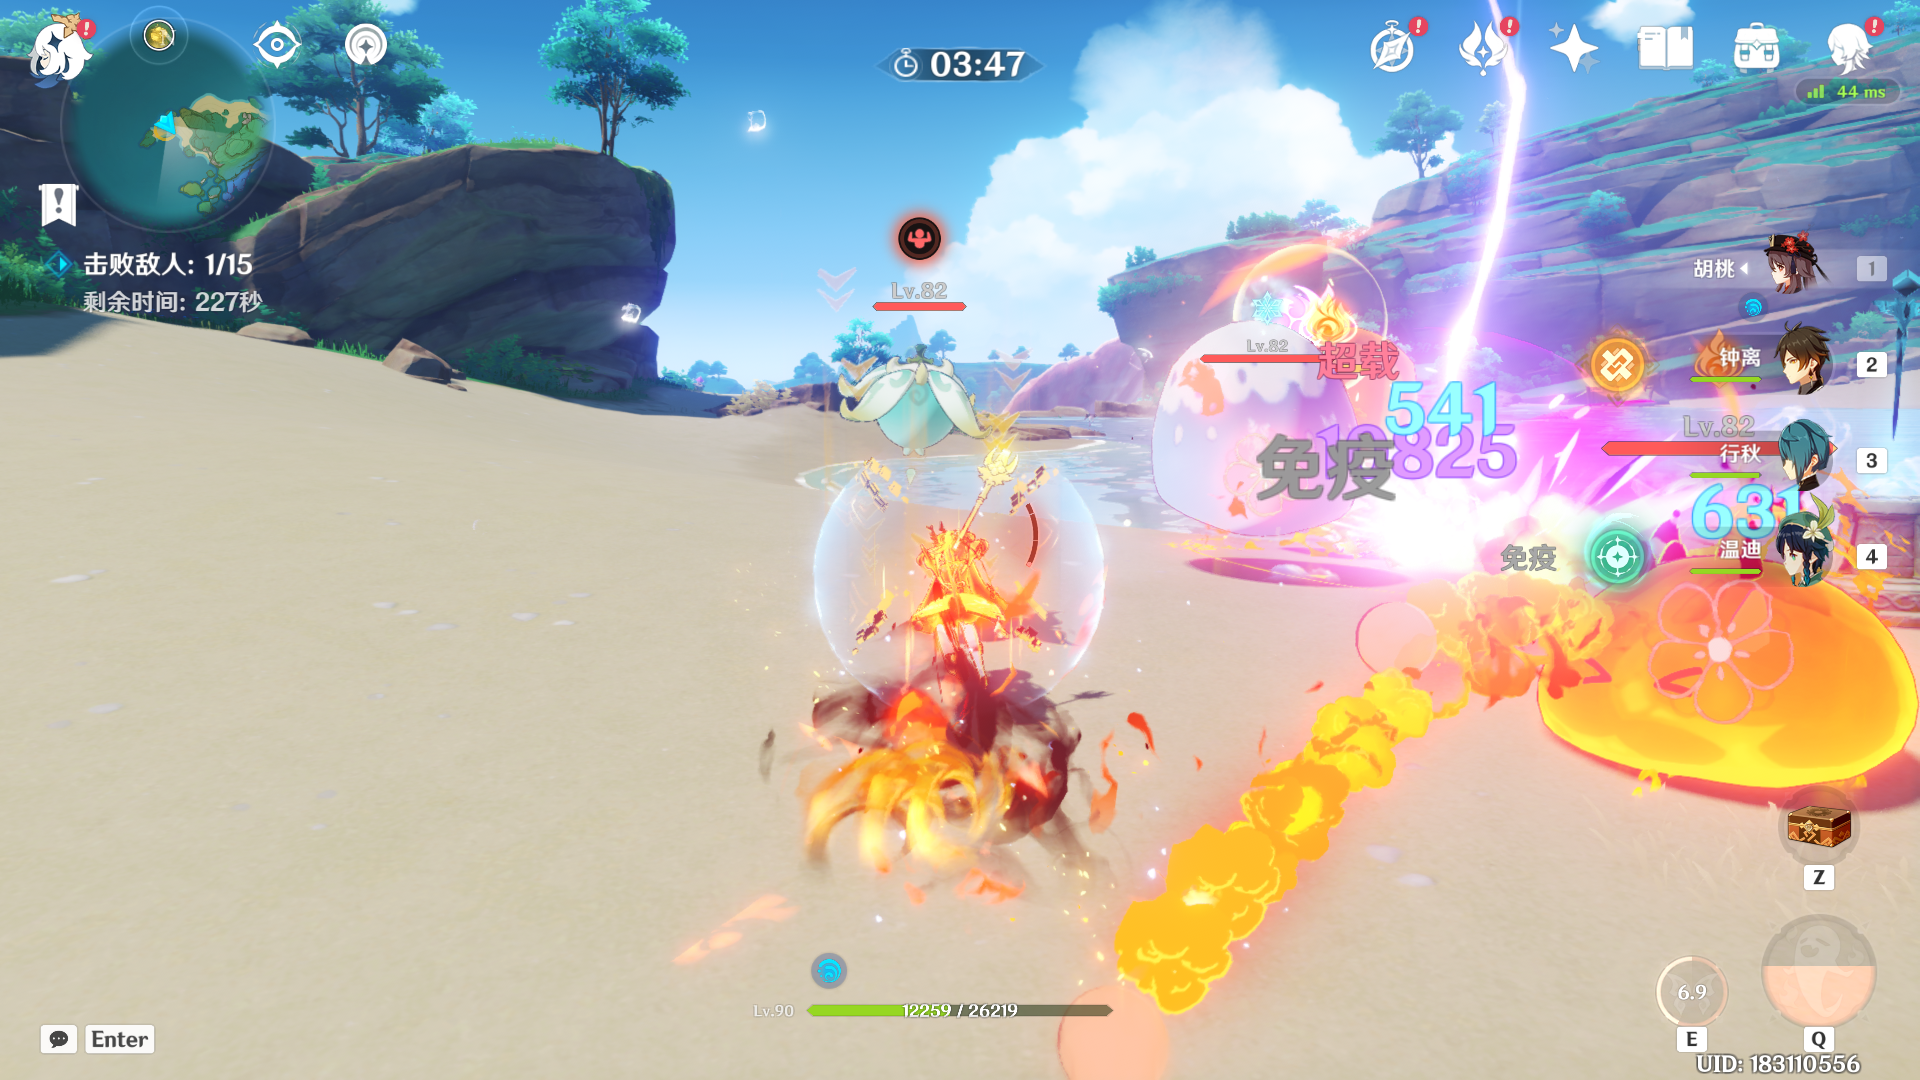character: (804, 488, 1150, 778)
slime: (1538, 546, 1920, 833), (1127, 306, 1414, 553)
